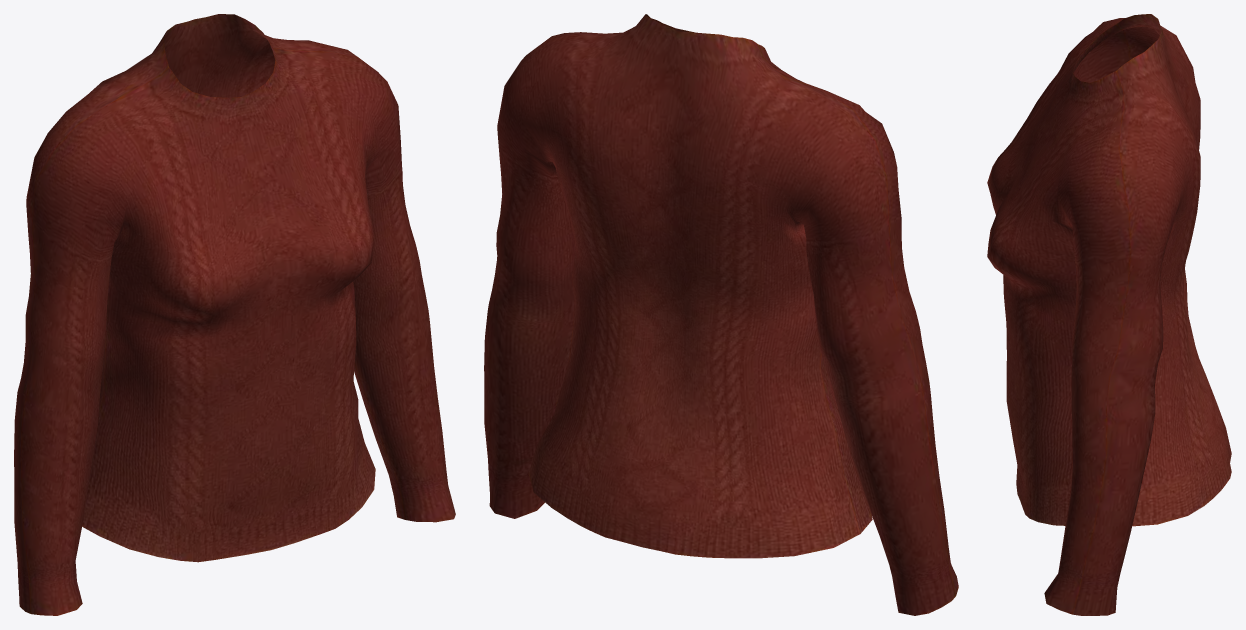
File: mindfront-knitted-sweater-02.glb
3 renders of one model, left to right at view 1: azimuth 30°, elevation 25°; view 2: azimuth 150°, elevation 25°; view 3: azimuth 270°, elevation 25°, orthographic. The views are drawn at different scales.
Parts seen in each view (by area): view 1: Human.mindfront_knitted_sweater_02; view 2: Human.mindfront_knitted_sweater_02; view 3: Human.mindfront_knitted_sweater_02.
Part boxes in pixels (x1,y1,x2,y2): Human.mindfront_knitted_sweater_02: [14, 14, 455, 615]; Human.mindfront_knitted_sweater_02: [484, 14, 958, 615]; Human.mindfront_knitted_sweater_02: [987, 14, 1231, 615].
Bounding box in the file's own units: 0.5239 × 0.6124 × 0.2742.
1 material, 1 textured.
